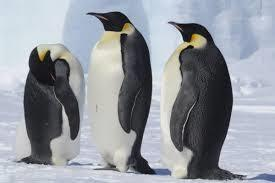emporer: (157, 12, 243, 182), (79, 5, 163, 174), (3, 34, 91, 176)
